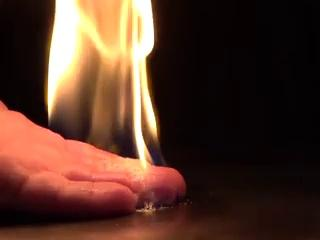Fire: (31, 1, 157, 174)
